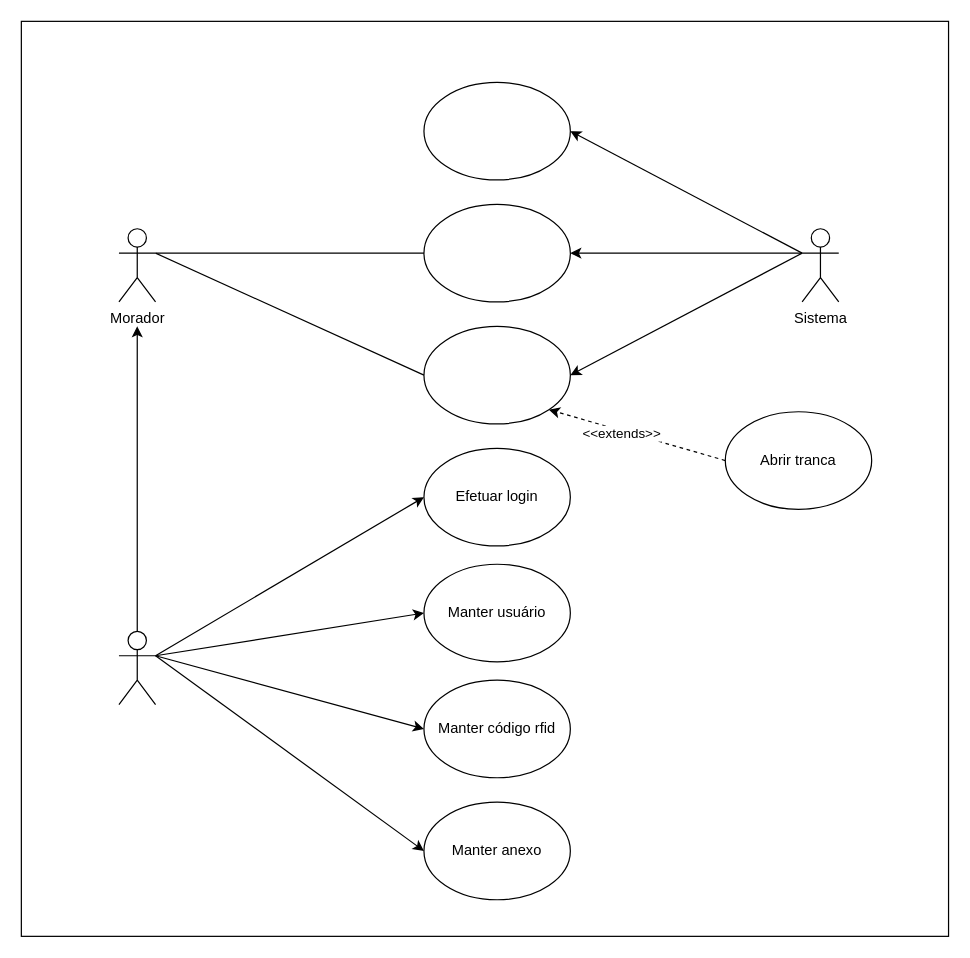
This 970x958 diagram has some shape labels left out. The box of each missing label's shape, as (x1, y1, x2, y2) in pixels:
Abrir tranca por rfid: (423, 203, 570, 302)
Administrador: (118, 630, 156, 705)
Notificar acessos: (423, 81, 570, 180)
Verificar identificação por face: (423, 325, 570, 424)
